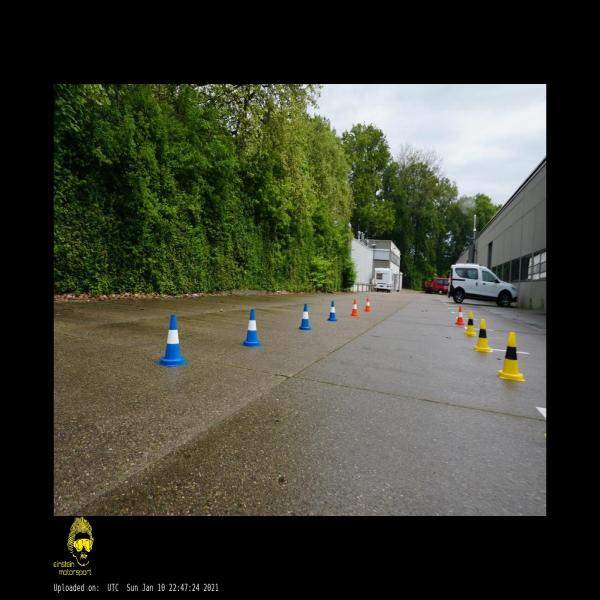blue_cone: (156, 315, 188, 367), (241, 309, 262, 347), (299, 304, 311, 330), (328, 301, 336, 321)
orange_cone: (456, 307, 464, 325), (350, 300, 358, 315), (364, 298, 371, 312)
yellow_cone: (496, 332, 524, 381), (474, 319, 492, 352), (464, 311, 476, 336)
